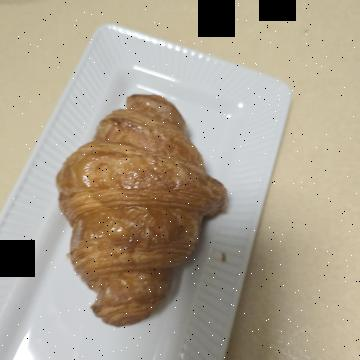croissant: (73, 134, 333, 321)
